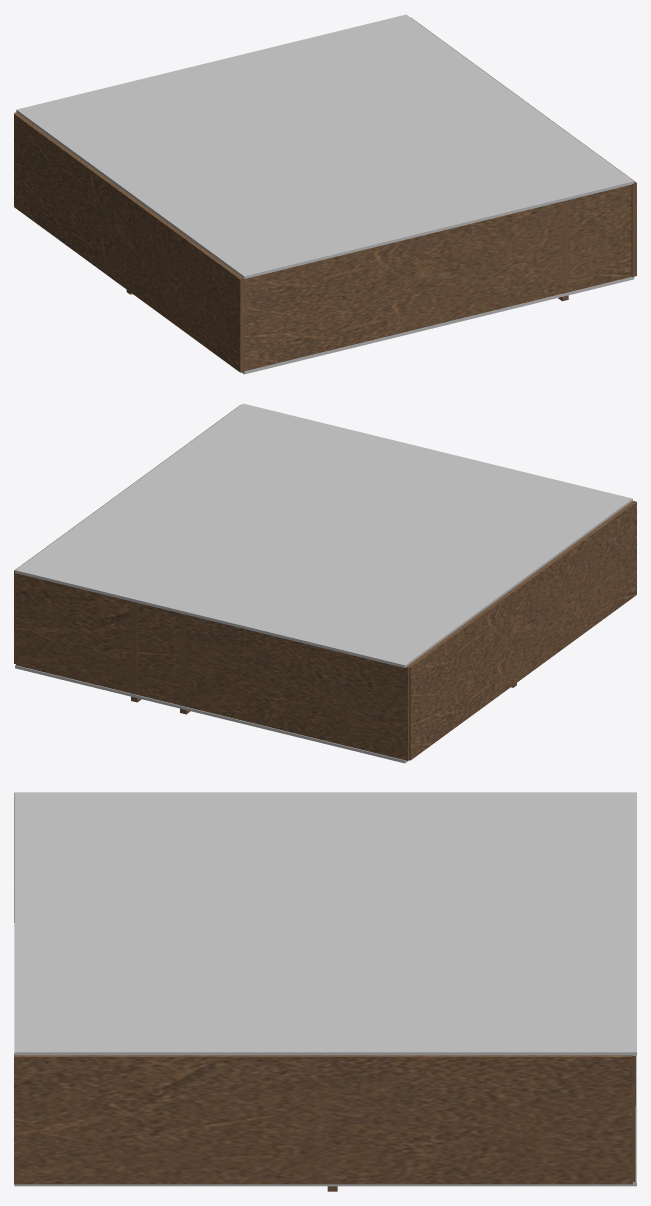
The model's file is maptestwithcoll2.fbx.
3 views of the same model, one above another, from view 1: azimuth 30°, elevation 25°; view 2: azimuth 150°, elevation 25°; view 3: azimuth 270°, elevation 25° (orthographic). The views are drawn at different scales.
Visible parts, largest first — view 1: Cube.041, Cube.004, Cube.001, Cube, Cube.002, Cube.012; view 2: Cube.041, Cube.003, Cube.001, Cube, Cube.006, Cube.010; view 3: Cube.041, Cube.002, Cube.
Boxes of the visible parts, <box> form: Cube.041: <box>16,14,634,278</box>; Cube.004: <box>245,184,631,370</box>; Cube.001: <box>14,113,245,372</box>; Cube: <box>242,277,634,374</box>; Cube.002: <box>411,17,636,276</box>; Cube.012: <box>558,201,568,301</box>; Cube.041: <box>15,403,632,667</box>; Cube.003: <box>16,573,410,760</box>; Cube.001: <box>408,501,636,760</box>; Cube: <box>15,665,407,763</box>; Cube.006: <box>131,602,141,702</box>; Cube.010: <box>180,614,190,714</box>; Cube.041: <box>14,792,636,1055</box>; Cube.002: <box>14,1054,632,1184</box>; Cube: <box>14,1056,636,1186</box>.
Size of the model in its own units: 7408 by 1834 by 7373.
